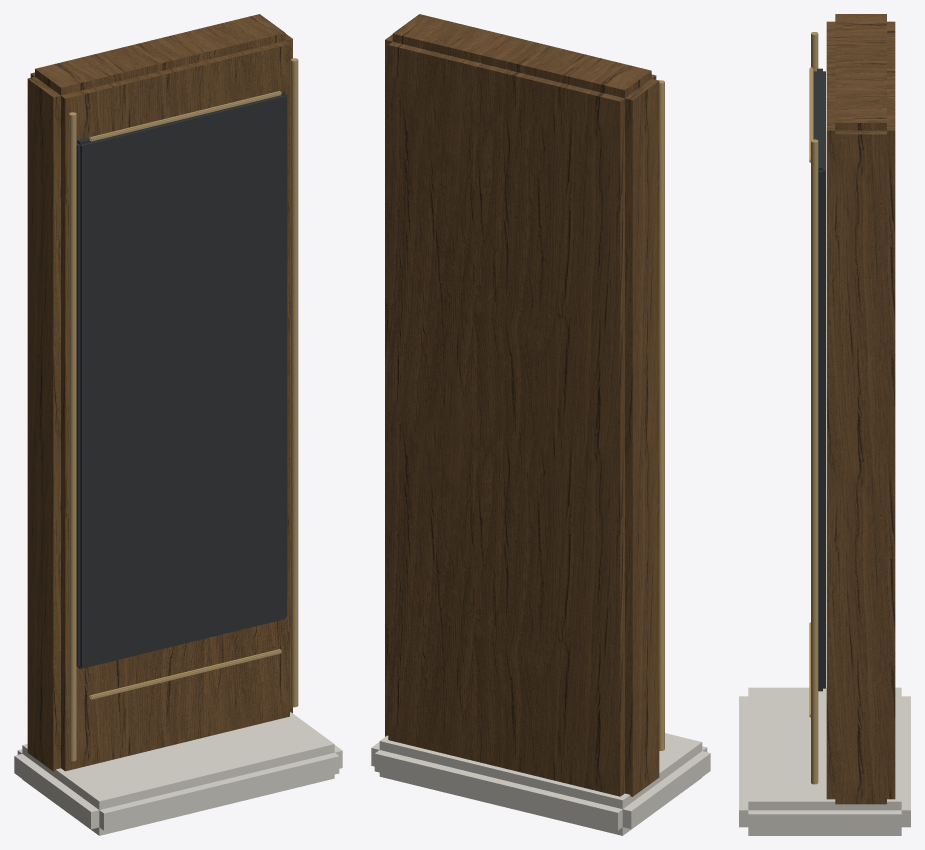
The model's file is commons_v25_info_housing.glb.
The picture shows the model from 3 angles, left to right: view 1: azimuth 30°, elevation 25°; view 2: azimuth 150°, elevation 25°; view 3: azimuth 270°, elevation 25°; orthographic projection. The views are drawn at different scales.
Visible parts, largest first — view 1: commons_v25_info_housing_Anodised_graphite, commons_v25_info_housing_CC0_Oak_veneer, commons_v25_info_housing_Honed_solid_surface, commons_v25_info_housing_Satin_champagne; view 2: commons_v25_info_housing_CC0_Oak_veneer, commons_v25_info_housing_Honed_solid_surface, commons_v25_info_housing_Satin_champagne; view 3: commons_v25_info_housing_CC0_Oak_veneer, commons_v25_info_housing_Honed_solid_surface, commons_v25_info_housing_Satin_champagne, commons_v25_info_housing_Anodised_graphite.
Part boxes in pixels (x1=…): commons_v25_info_housing_Anodised_graphite: x1=76, y1=90, x2=287, y2=668; commons_v25_info_housing_CC0_Oak_veneer: x1=27, y1=14, x2=292, y2=771; commons_v25_info_housing_Honed_solid_surface: x1=14, y1=712, x2=342, y2=835; commons_v25_info_housing_Satin_champagne: x1=69, y1=58, x2=298, y2=761; commons_v25_info_housing_CC0_Oak_veneer: x1=385, y1=14, x2=659, y2=796; commons_v25_info_housing_Honed_solid_surface: x1=371, y1=733, x2=710, y2=835; commons_v25_info_housing_Satin_champagne: x1=659, y1=80, x2=664, y2=750; commons_v25_info_housing_CC0_Oak_veneer: x1=826, y1=14, x2=895, y2=804; commons_v25_info_housing_Honed_solid_surface: x1=739, y1=687, x2=910, y2=835; commons_v25_info_housing_Satin_champagne: x1=809, y1=32, x2=818, y2=784; commons_v25_info_housing_Anodised_graphite: x1=813, y1=68, x2=825, y2=691.
Size of the model in its own units: 0.84 by 2.28 by 0.5.
4 materials, 1 textured.
